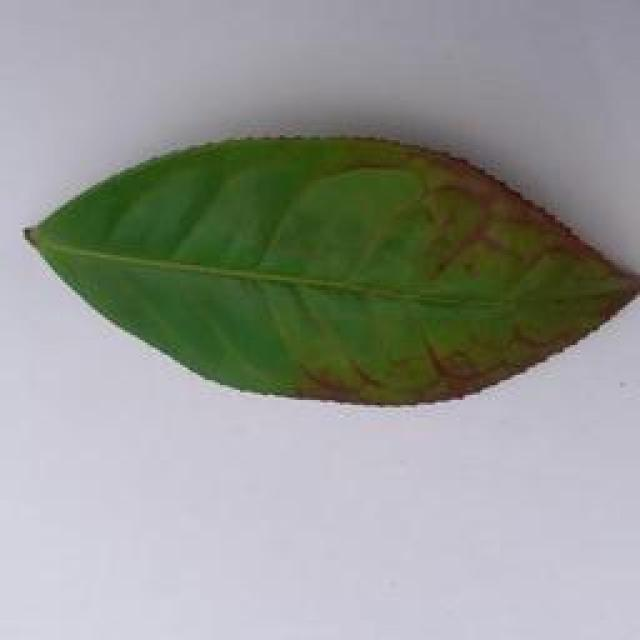Red Leaf Spot: (0, 120, 640, 428)
